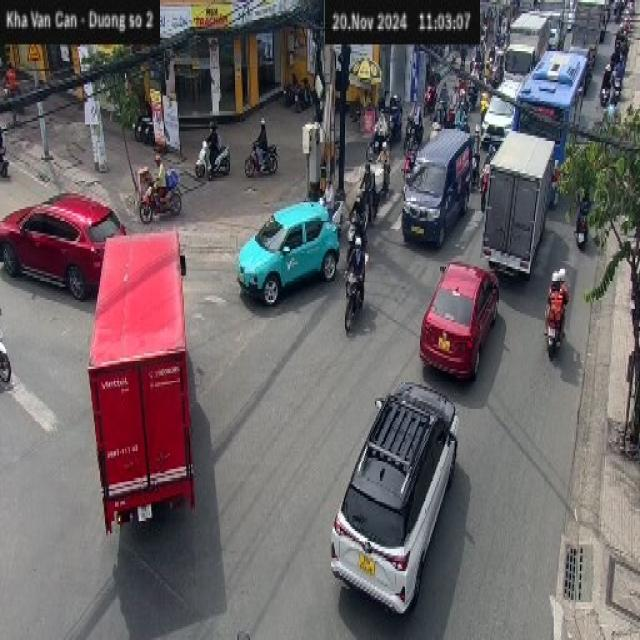car: (332, 382, 461, 628), (0, 190, 130, 302), (232, 197, 343, 303), (420, 258, 504, 386)
motorcycle: (135, 175, 187, 224), (341, 255, 368, 335), (192, 141, 233, 179), (245, 140, 281, 178)
person: (348, 232, 368, 280), (152, 151, 166, 192), (257, 118, 269, 156), (208, 117, 218, 154)
truck: (83, 224, 208, 534), (482, 126, 554, 277)
